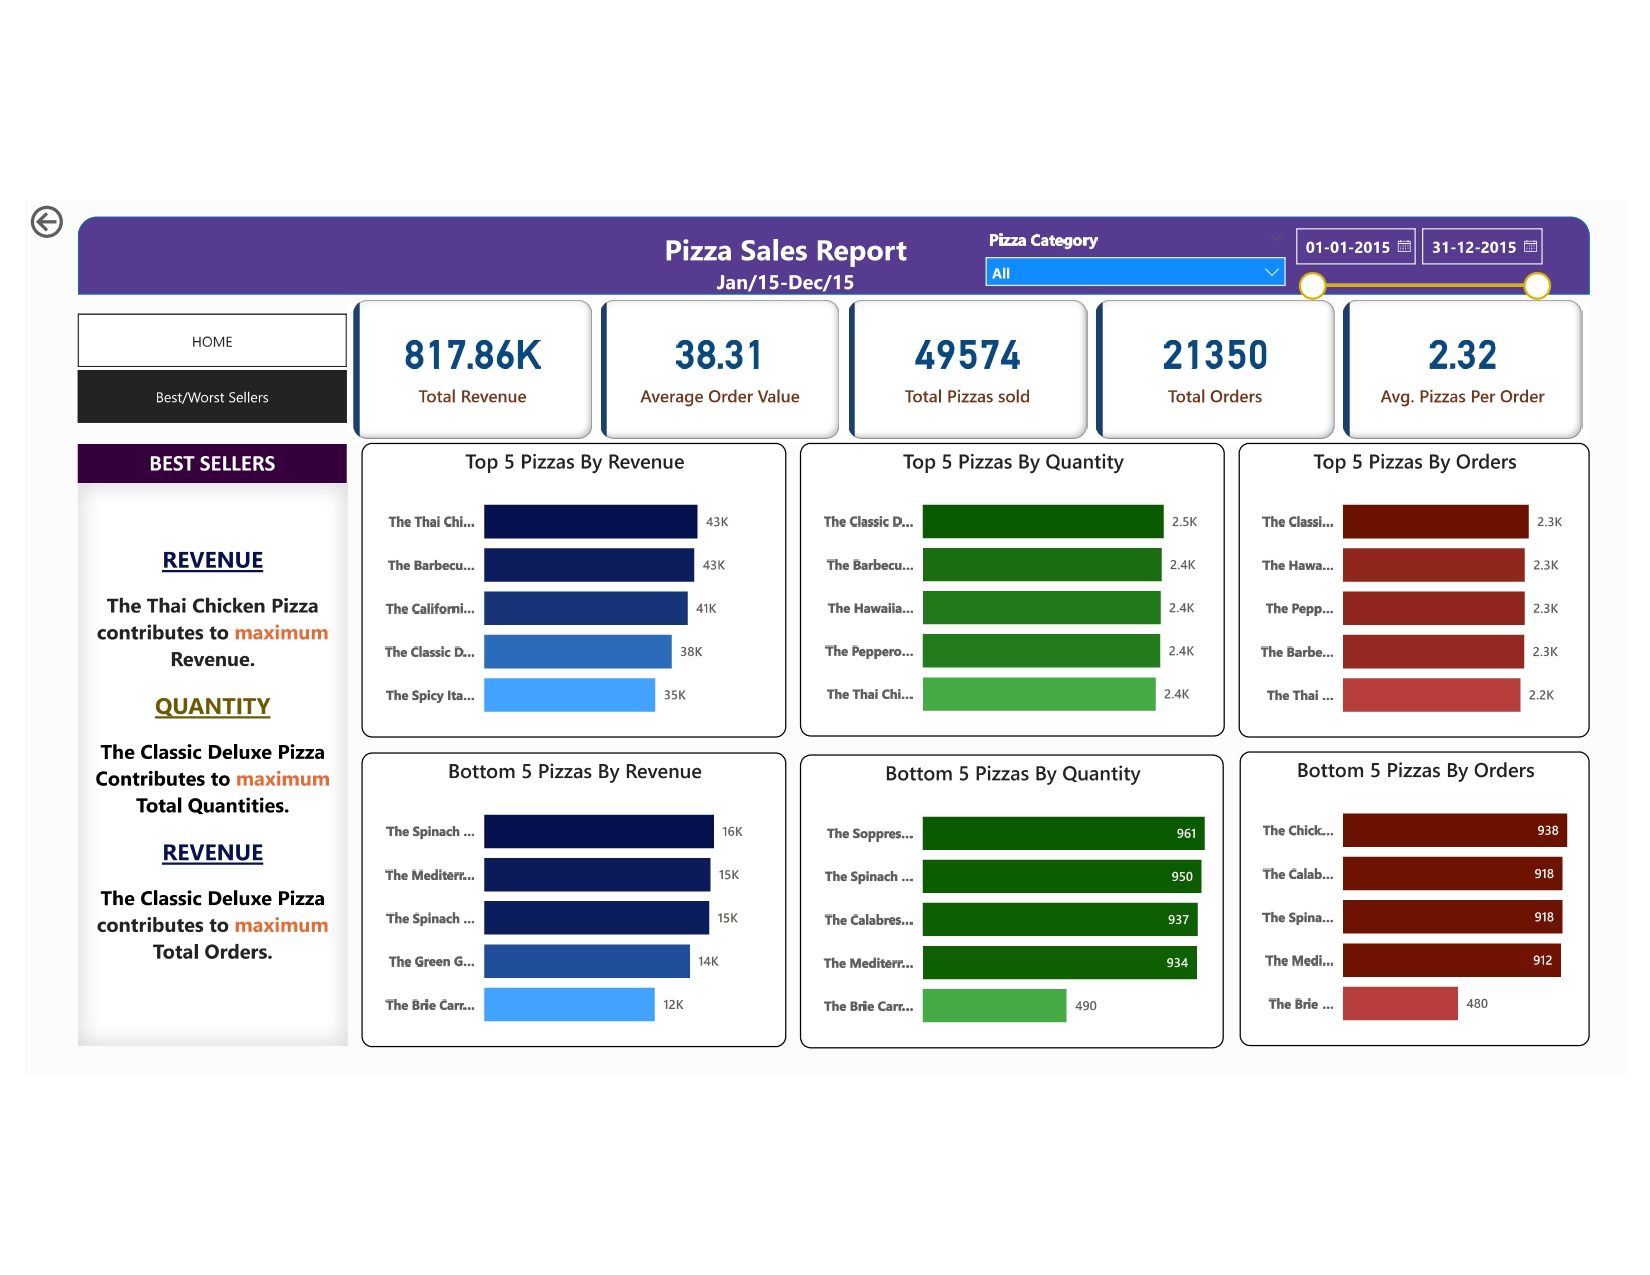

Layout of this report page (visuals, bound fields, positions):
{"tool":"powerbi","page":{"name":"Best/Worst Sellers","canvas":[1500,820],"ordinal":1},"visuals":[{"type":"actionButton","box":[0,0,100,40],"z":0},{"type":"cardVisual","fields":{"Data":["pizza_sales.Total Revenue","pizza_sales.Average Order Value","pizza_sales.Total  Pizzas sold","pizza_sales.Total Orders","pizza_sales.Avg. Pizzas Per Order"]},"box":[302.1,87.9,1163.7,140.3],"z":1000},{"type":"shape","box":[49.3,15.4,1416.5,72.4],"z":2000},{"type":"textbox","box":[565,21.7,295,85],"z":3000},{"type":"textbox","box":[49.3,228.1,251.2,37],"z":9000},{"type":"textbox","box":[49.3,265.1,252.8,527.1],"z":10000},{"type":"slicer","fields":{"Values":["pizza_sales.pizza_category"]},"box":[890.4,21.3,300.4,65.8],"z":13000},{"type":"slicer","fields":{"Values":["pizza_sales.order_date"]},"box":[1178.3,16,259.5,90.6],"z":14000},{"type":"barChart","title":"Top 5 Pizzas By Revenue","fields":{"Category":["pizza_sales.pizza_name"],"Y":["pizza_sales.Total Revenue"]},"box":[314.6,227.5,398.1,275.5],"z":14001},{"type":"barChart","title":"Bottom 5 Pizzas By Revenue","fields":{"Category":["pizza_sales.pizza_name"],"Y":["pizza_sales.Total Revenue"]},"box":[314.6,517.2,398.1,275.5],"z":14002},{"type":"barChart","title":"Top 5 Pizzas By Quantity","fields":{"Category":["pizza_sales.pizza_name"],"Y":["pizza_sales.Total  Pizzas sold"]},"box":[726,226.6,397.7,275.9],"z":14003},{"type":"barChart","title":"Bottom 5 Pizzas By Quantity","fields":{"Category":["pizza_sales.pizza_name"],"Y":["pizza_sales.Total  Pizzas sold"]},"box":[725.6,519.2,397.2,275.1],"z":14004},{"type":"barChart","title":"Top 5 Pizzas By Orders","fields":{"Category":["pizza_sales.pizza_name"],"Y":["pizza_sales.Total Orders"]},"box":[1137.4,227.5,328.8,275.5],"z":14005},{"type":"barChart","title":"Bottom 5 Pizzas By Orders","fields":{"Category":["pizza_sales.pizza_name"],"Y":["pizza_sales.Total Orders"]},"box":[1137.5,516.4,328.3,275.9],"z":14006},{"type":"pageNavigator","box":[49.3,106.4,251.2,49.3],"z":14007},{"type":"pageNavigator","box":[49.3,158.8,251.2,49.3],"z":14008}]}

Visuals, with their boxes on the page's 1500x820 design canvas (x1, y1, x2, y2). These are canvas units, not pixel positions in the 1650x1275 screenshot, which may show the page scaled, cropped or inside an application window:
actionButton: region(0, 0, 100, 40)
cardVisual - pizza_sales.Total Revenue x pizza_sales.Average Order Value: region(302, 88, 1466, 228)
shape: region(49, 15, 1466, 88)
textbox: region(565, 22, 860, 107)
textbox: region(49, 228, 300, 265)
textbox: region(49, 265, 302, 792)
slicer - pizza_sales.pizza_category: region(890, 21, 1191, 87)
slicer - pizza_sales.order_date: region(1178, 16, 1438, 107)
"Top 5 Pizzas By Revenue" barChart: region(315, 228, 713, 503)
"Bottom 5 Pizzas By Revenue" barChart: region(315, 517, 713, 793)
"Top 5 Pizzas By Quantity" barChart: region(726, 227, 1124, 502)
"Bottom 5 Pizzas By Quantity" barChart: region(726, 519, 1123, 794)
"Top 5 Pizzas By Orders" barChart: region(1137, 228, 1466, 503)
"Bottom 5 Pizzas By Orders" barChart: region(1138, 516, 1466, 792)
pageNavigator: region(49, 106, 300, 156)
pageNavigator: region(49, 159, 300, 208)
